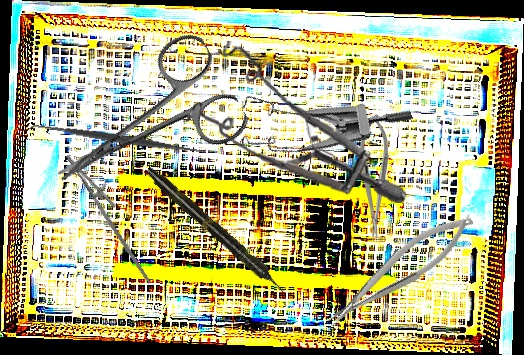Handpiece: (142, 163, 290, 299)
Iris Scissors: (28, 25, 254, 225)
Needle Holder: (315, 204, 483, 335), (51, 147, 174, 284), (359, 114, 389, 238)
Spatula Surgical: (27, 115, 208, 163)
Speculum: (180, 38, 416, 204), (226, 41, 414, 184)
